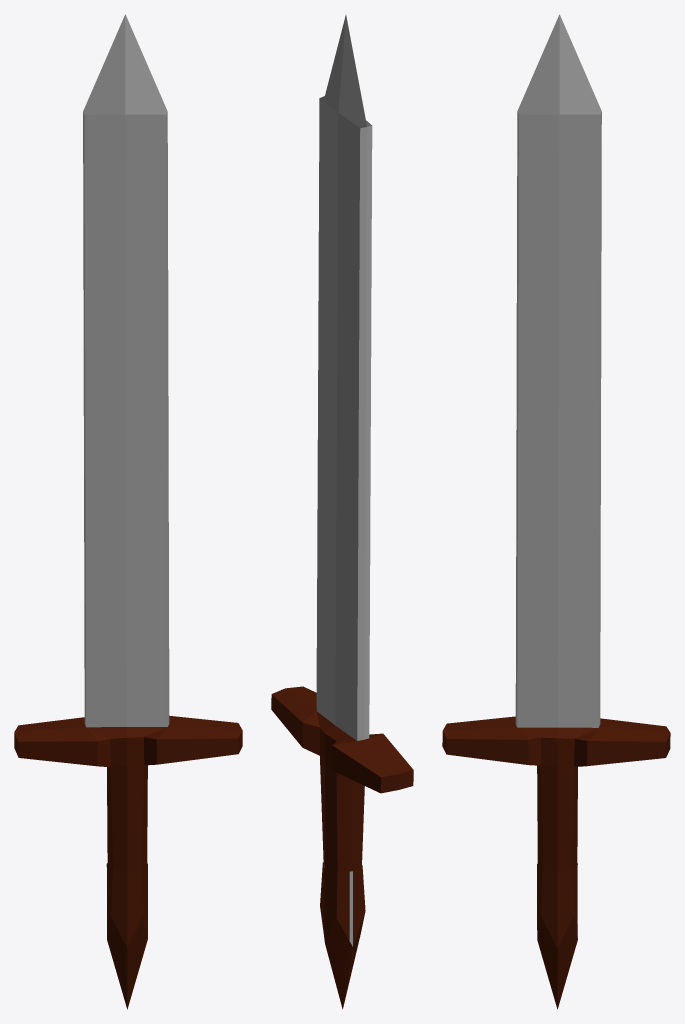
Rendered from sword.fbx.
3 renders of one model, left to right at view 1: azimuth 90°, elevation 25°; view 2: azimuth 210°, elevation 25°; view 3: azimuth 270°, elevation 25°, orthographic.
Visible parts, largest first — view 1: Cube; view 2: Cube; view 3: Cube.
Boxes of the visible parts, box(x1,y1,x2,y2) form: Cube: box(14, 14, 242, 1009); Cube: box(271, 15, 413, 1009); Cube: box(442, 14, 670, 1009).
Bounding box in the file's own units: 10.2 × 190 × 39.48.
